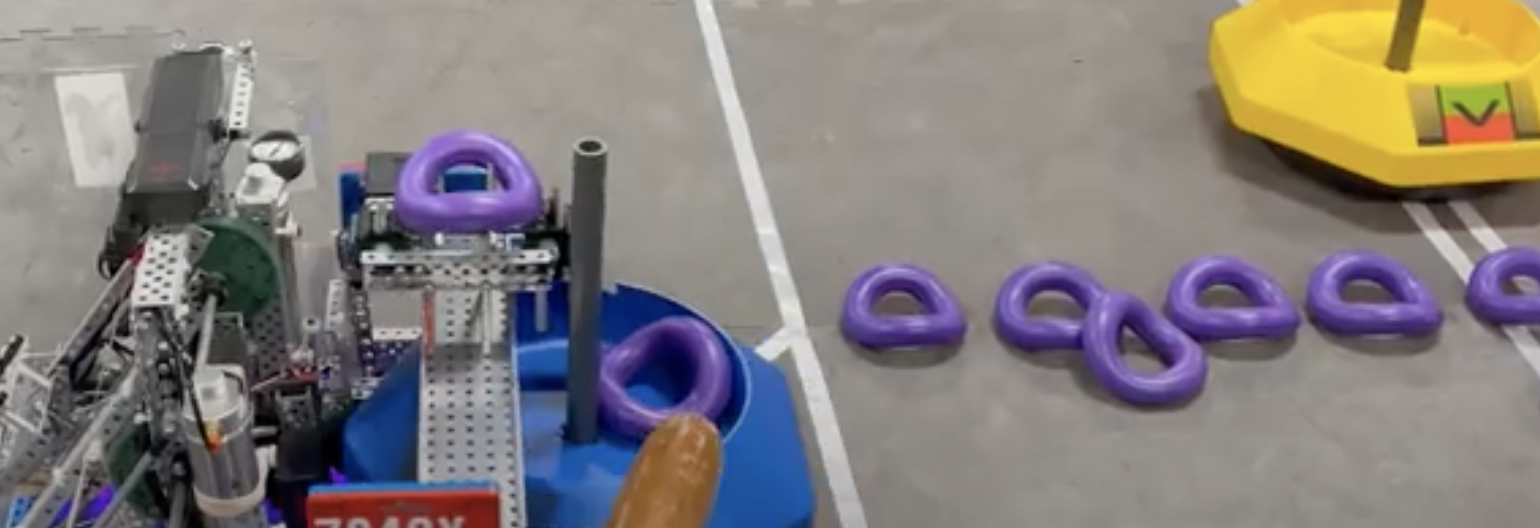ring: (599, 315, 730, 440), (394, 130, 545, 231), (1083, 291, 1209, 408), (1306, 245, 1445, 337), (1166, 257, 1299, 345), (994, 258, 1118, 349), (842, 263, 969, 348), (1465, 246, 1540, 324)
